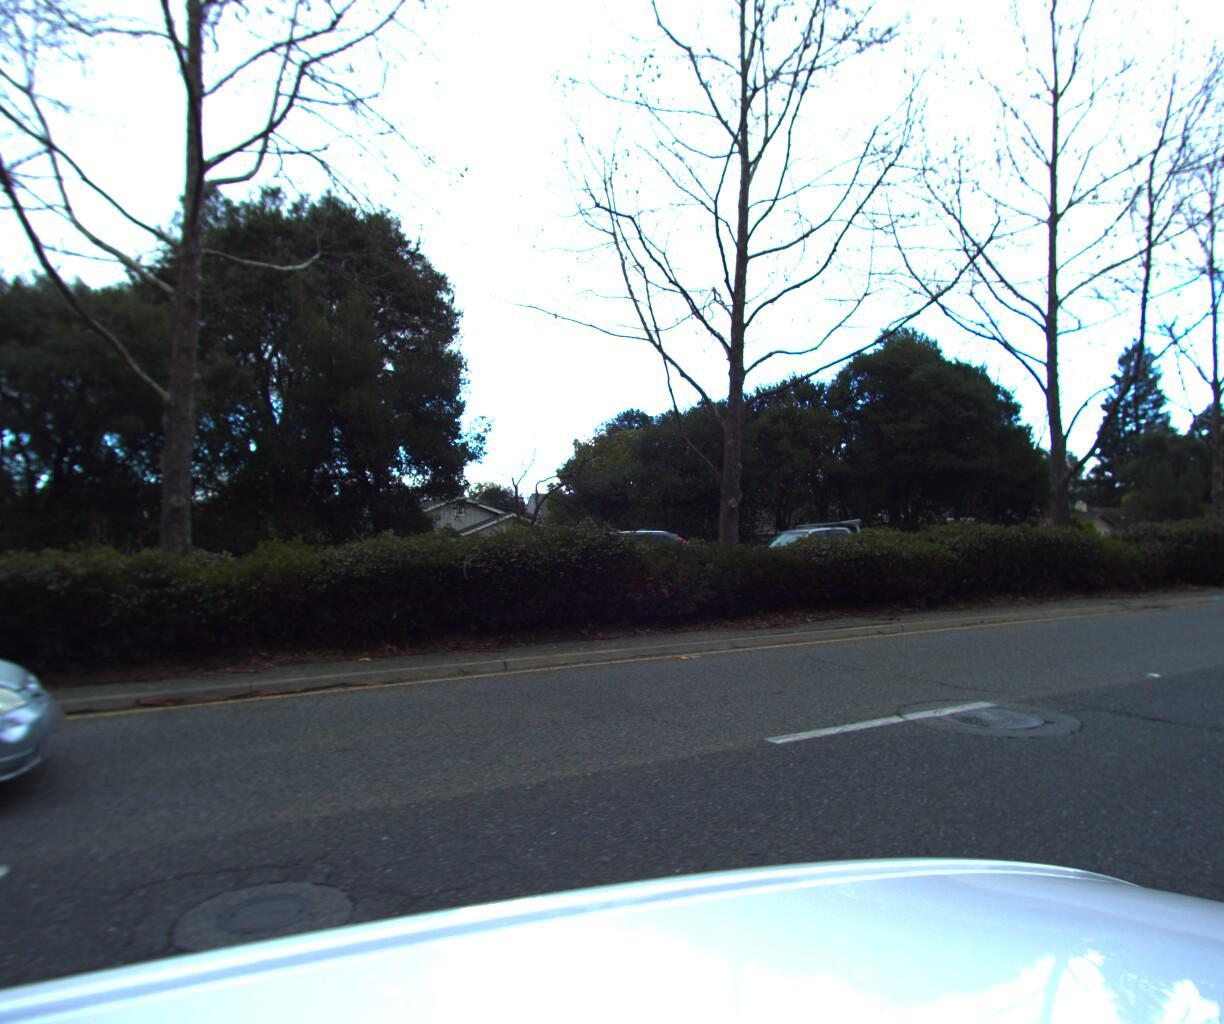car: (0, 556, 70, 1024), (457, 518, 689, 611), (738, 517, 893, 580)
